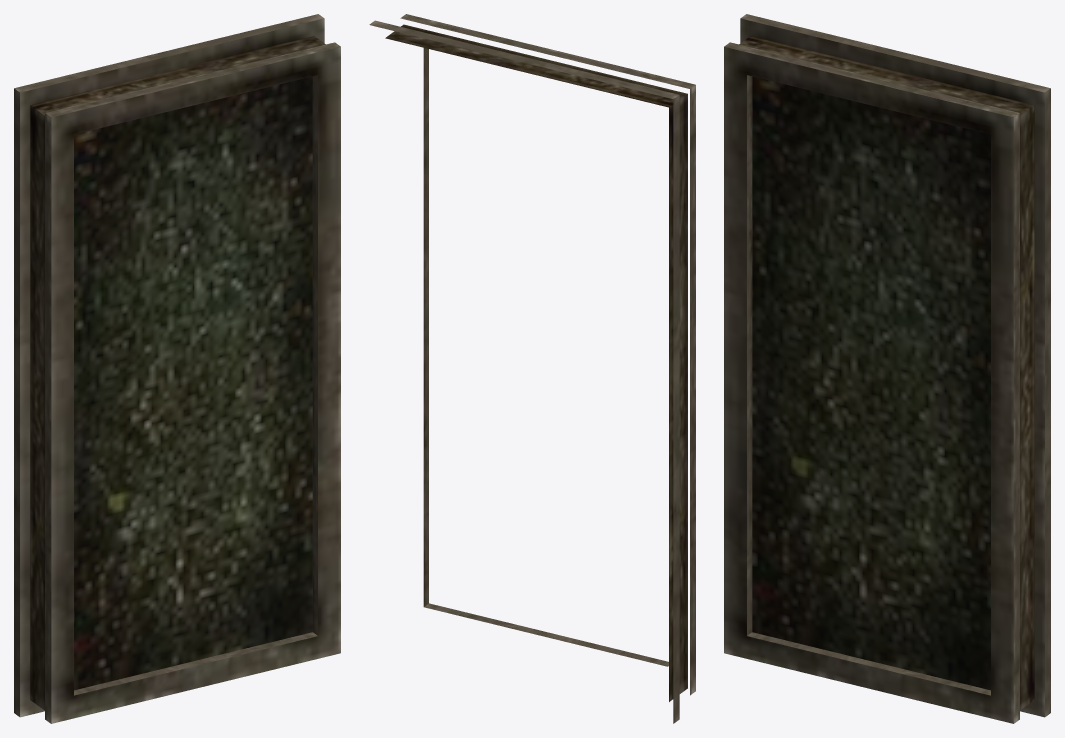
The picture shows the model from 3 angles, left to right: view 1: azimuth 30°, elevation 25°; view 2: azimuth 150°, elevation 25°; view 3: azimuth 330°, elevation 25°; orthographic projection.
Parts seen in each view (by area): view 1: model_object50; view 2: model_object50; view 3: model_object50.
Boxes of the visible parts, x1=… form: model_object50: x1=14, y1=14, x2=340, y2=723; model_object50: x1=369, y1=14, x2=695, y2=723; model_object50: x1=724, y1=14, x2=1050, y2=723.
Size of the model in its own units: 2.14 by 4.2 by 0.3639.
Materials: 1 (1 with a texture image).
